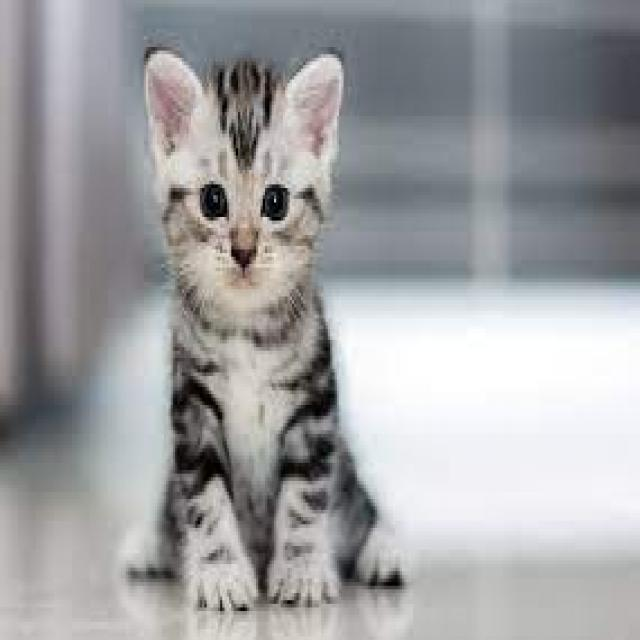Cat: (118, 40, 410, 620)
